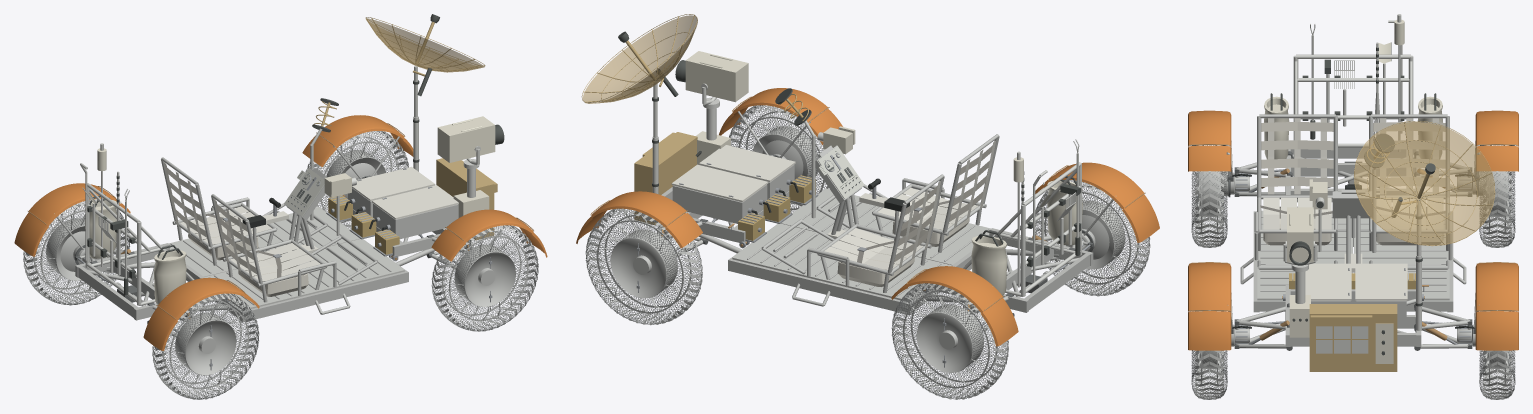
File: rover.glb
3 renders of one model, left to right at view 1: azimuth 30°, elevation 25°; view 2: azimuth 150°, elevation 25°; view 3: azimuth 270°, elevation 25°, orthographic. The views are drawn at different scales.
Visible parts, largest first — view 1: LRV_BeadedFloor, LRV_WovenWire_FR, LRV_FoldingSeatFrames, LRV_WovenWire_RR, LRV_SeatSlings, LRV_StructuralFrames, LRV_SpunHub_RR, LRV_SpunHub_FR, LRV_RCAColourCameraAndTCU, LRV_AftFrame, LRV_Chevrons_FR, LRV_WovenWire_RL (+28 smaller); view 2: LRV_BeadedFloor, LRV_WovenWire_FL, LRV_FoldingSeatFrames, LRV_WovenWire_RL, LRV_ReflectorMesh, LRV_SeatSlings, LRV_StructuralFrames, LRV_SpunHub_FL, LRV_SpunHub_RL, LRV_AftFrame, LRV_WovenWire_RR, LRV_Chevrons_FL (+28 smaller); view 3: LRV_ReflectorMesh, LRV_SeatBackWebbing, LRV_BeadedFloor, LRV_FoldingSeatFrames, LRV_SeatSlings, LRV_RelayBlanketAndEnclosure, LRV_FenderSkin_FL, LRV_FenderSkin_FR, LRV_FenderSkin_RR, LRV_FenderSkin_RL, LRV_StructuralFrames, LRV_AftFrame (+37 smaller).
Part boxes in pixels (x1,y1,x2,y2): LRV_BeadedFloor: (169,207,404,310); LRV_WovenWire_FR: (432,225,538,331); LRV_FoldingSeatFrames: (161,157,377,314); LRV_WovenWire_RR: (152,293,258,399); LRV_SeatSlings: (164,163,320,281); LRV_StructuralFrames: (170,207,408,322); LRV_SpunHub_RR: (175,312,236,375); LRV_SpunHub_FR: (454,244,515,306); LRV_RCAColourCameraAndTCU: (437,116,495,217); LRV_AftFrame: (75,243,228,320); LRV_Chevrons_FR: (431,225,538,331); LRV_WovenWire_RL: (23,200,129,305); LRV_BeadedFloor: (732,188,990,301); LRV_WovenWire_FL: (586,208,702,324); LRV_FoldingSeatFrames: (761,134,999,306); LRV_WovenWire_RL: (892,283,1008,399); LRV_ReflectorMesh: (583,15,697,103); LRV_SeatSlings: (824,140,996,269); LRV_StructuralFrames: (728,188,988,314); LRV_SpunHub_FL: (610,229,677,298); LRV_SpunHub_RL: (916,304,983,372); LRV_AftFrame: (925,228,1093,312); LRV_WovenWire_RR: (1035,180,1149,295); LRV_Chevrons_FL: (585,208,702,324); LRV_ReflectorMesh: (1354,122,1494,246); LRV_SeatBackWebbing: (1261,122,1445,186); LRV_BeadedFloor: (1257,210,1449,300); LRV_FoldingSeatFrames: (1240,114,1466,284); LRV_SeatSlings: (1263,118,1443,229); LRV_RelayBlanketAndEnclosure: (1309,304,1397,371); LRV_FenderSkin_FL: (1475,262,1518,350); LRV_FenderSkin_FR: (1188,262,1231,350); LRV_FenderSkin_RR: (1188,110,1231,171); LRV_FenderSkin_RL: (1475,110,1518,171); LRV_StructuralFrames: (1253,211,1453,312); LRV_AftFrame: (1285,147,1421,202).
Bounding box in the file's own units: 3.42 × 1.89 × 2.1.
